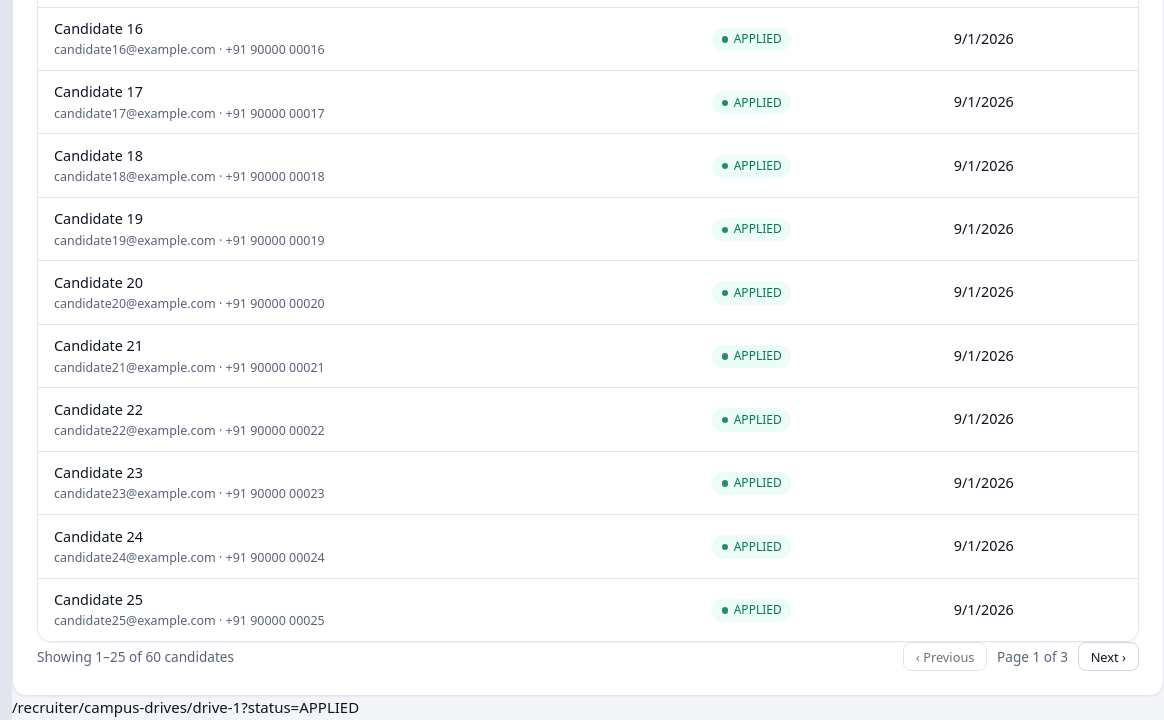
Test case: CampusDriveDetailPage — Candidates in this drive › pages through the drive's candidates with filters kept
(page scrolled)
Check: the text "Showing 1–25 of 60 candidates" is shown, box [37,646,234,667]
Click the button with aria-label "Next page": [1108, 657] box [1078,642,1139,671]
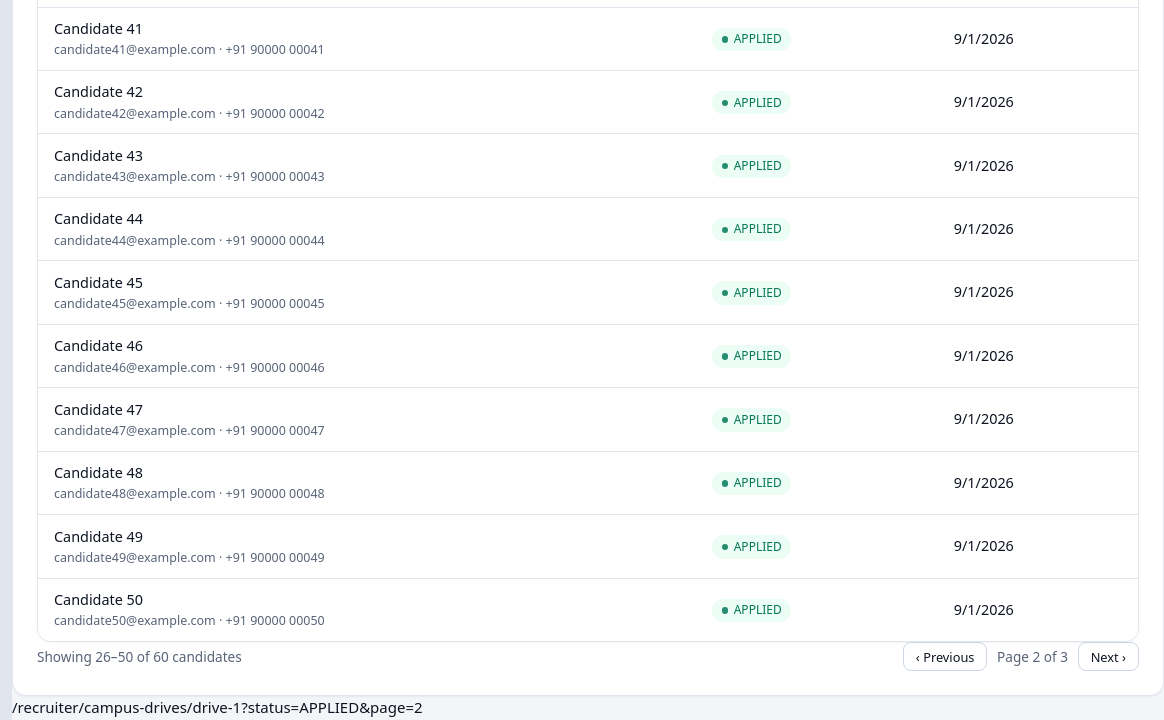
Check: the text "Showing 26–50 of 60 candidates" is shown, box [37,646,242,667]
Check: the text with test id "location" reads "/recruiter/campus-drives/drive-1?status=APPLIED&page=2", box [12,697,423,717]
Click the button with aria-label "Previous page": [945, 657] box [903,642,987,671]
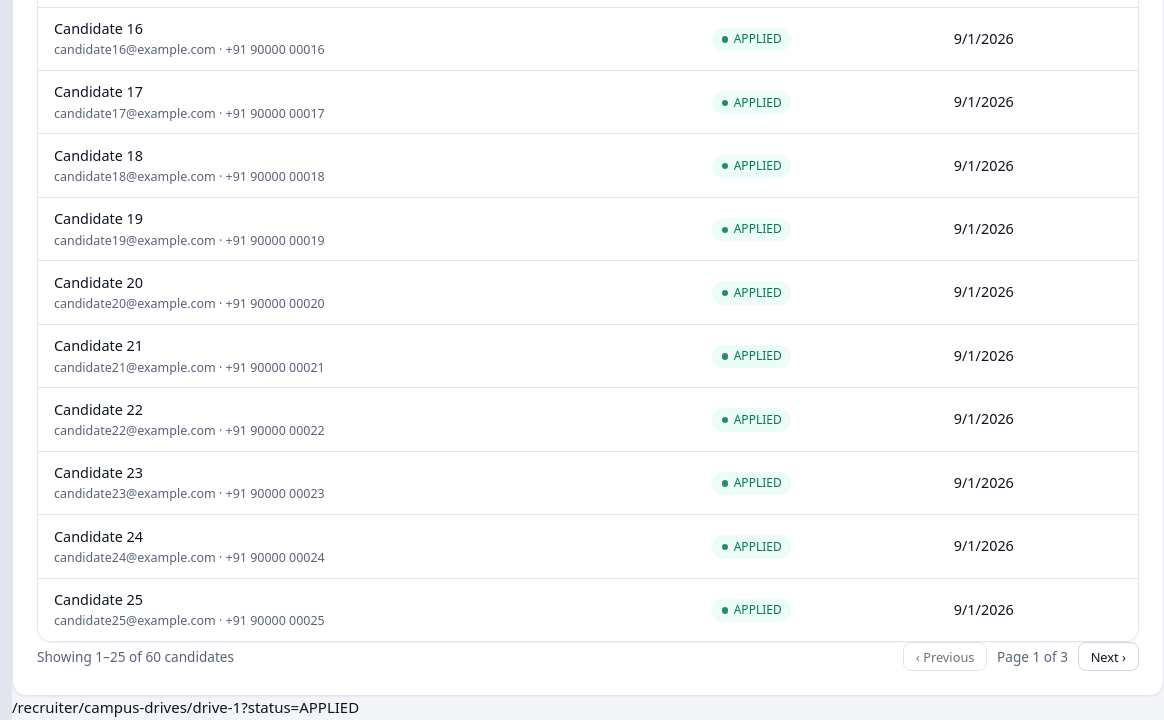
Check: the text "Showing 1–25 of 60 candidates" is shown, box [37,646,234,667]
